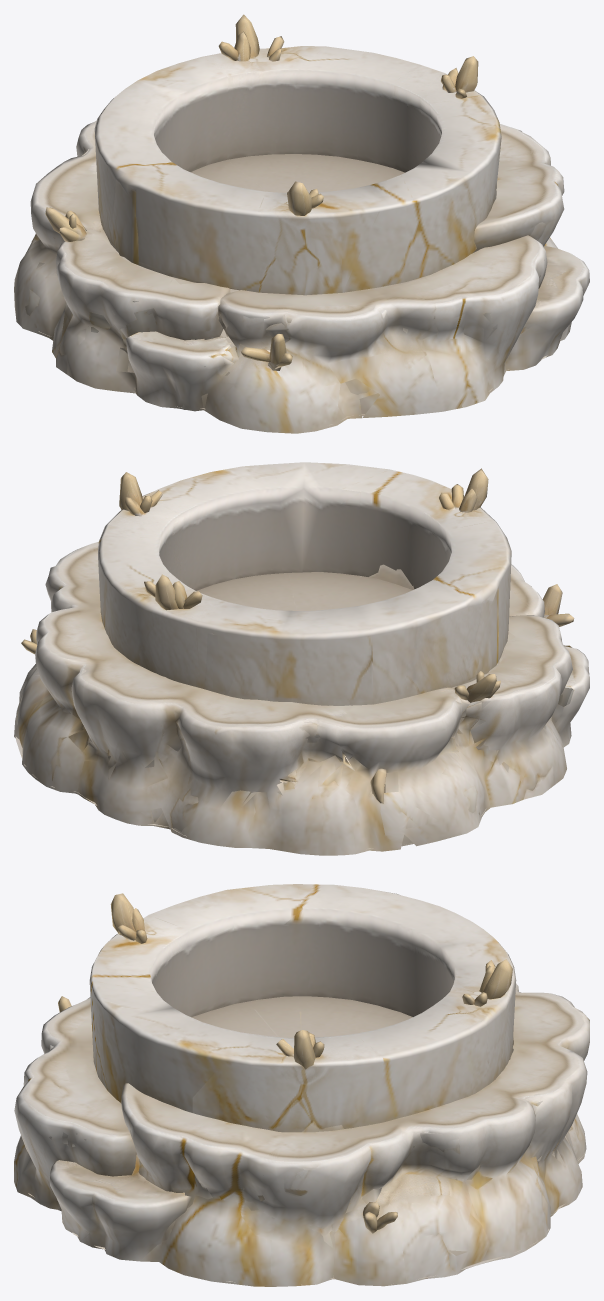
File: mana-well-white.glb
The picture shows the model from 3 angles, top to bottom: view 1: azimuth 30°, elevation 25°; view 2: azimuth 150°, elevation 25°; view 3: azimuth 270°, elevation 25°; orthographic projection. The views are drawn at different scales.
Bounding box in the file's own units: 1 × 0.4413 × 1.
1 material, 1 textured.
